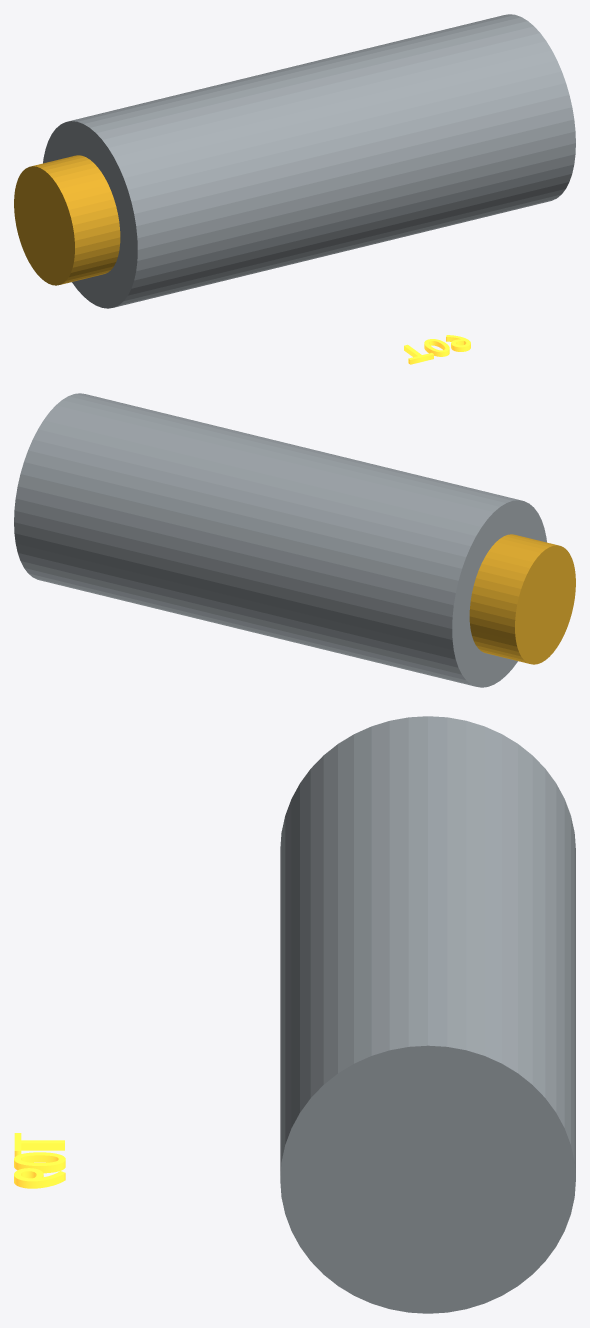
3 views of the same model, one above another, from view 1: azimuth 30°, elevation 25°; view 2: azimuth 150°, elevation 25°; view 3: azimuth 270°, elevation 25° (orthographic). The views are drawn at different scales.
Parts seen in each view (by area): view 1: T09, T09_pullstud, LABEL_T09; view 2: T09, T09_pullstud; view 3: T09, LABEL_T09.
Part boxes in pixels (x1,y1,x2,y2): T09: (43,14,575,308); T09_pullstud: (14,155,120,285); LABEL_T09: (404,335,470,364); T09: (14,393,546,687); T09_pullstud: (469,534,575,664); T09: (280,716,575,1313); LABEL_T09: (14,1133,65,1188).
Bounding box in the file's own units: 0.64 × 0.233 × 0.418.
